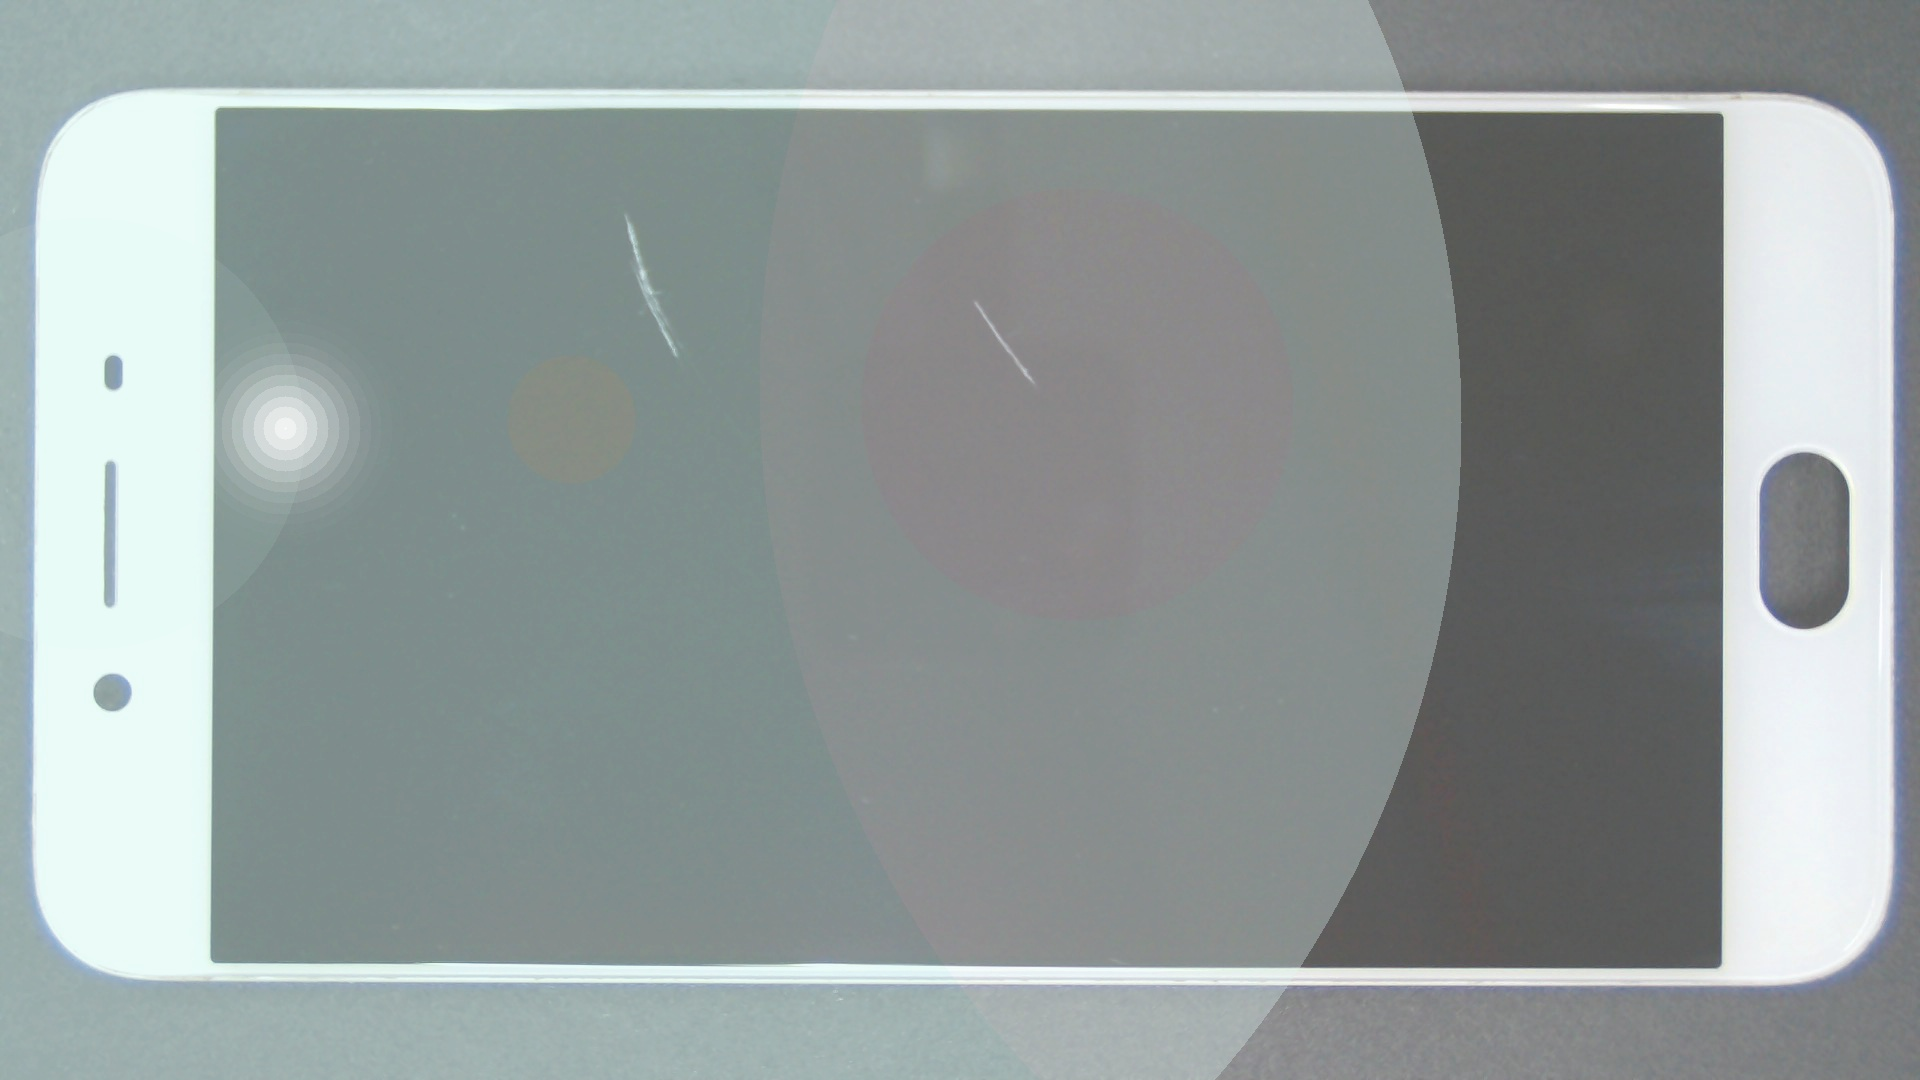oil: (488, 149, 1462, 454), (313, 105, 936, 323)
